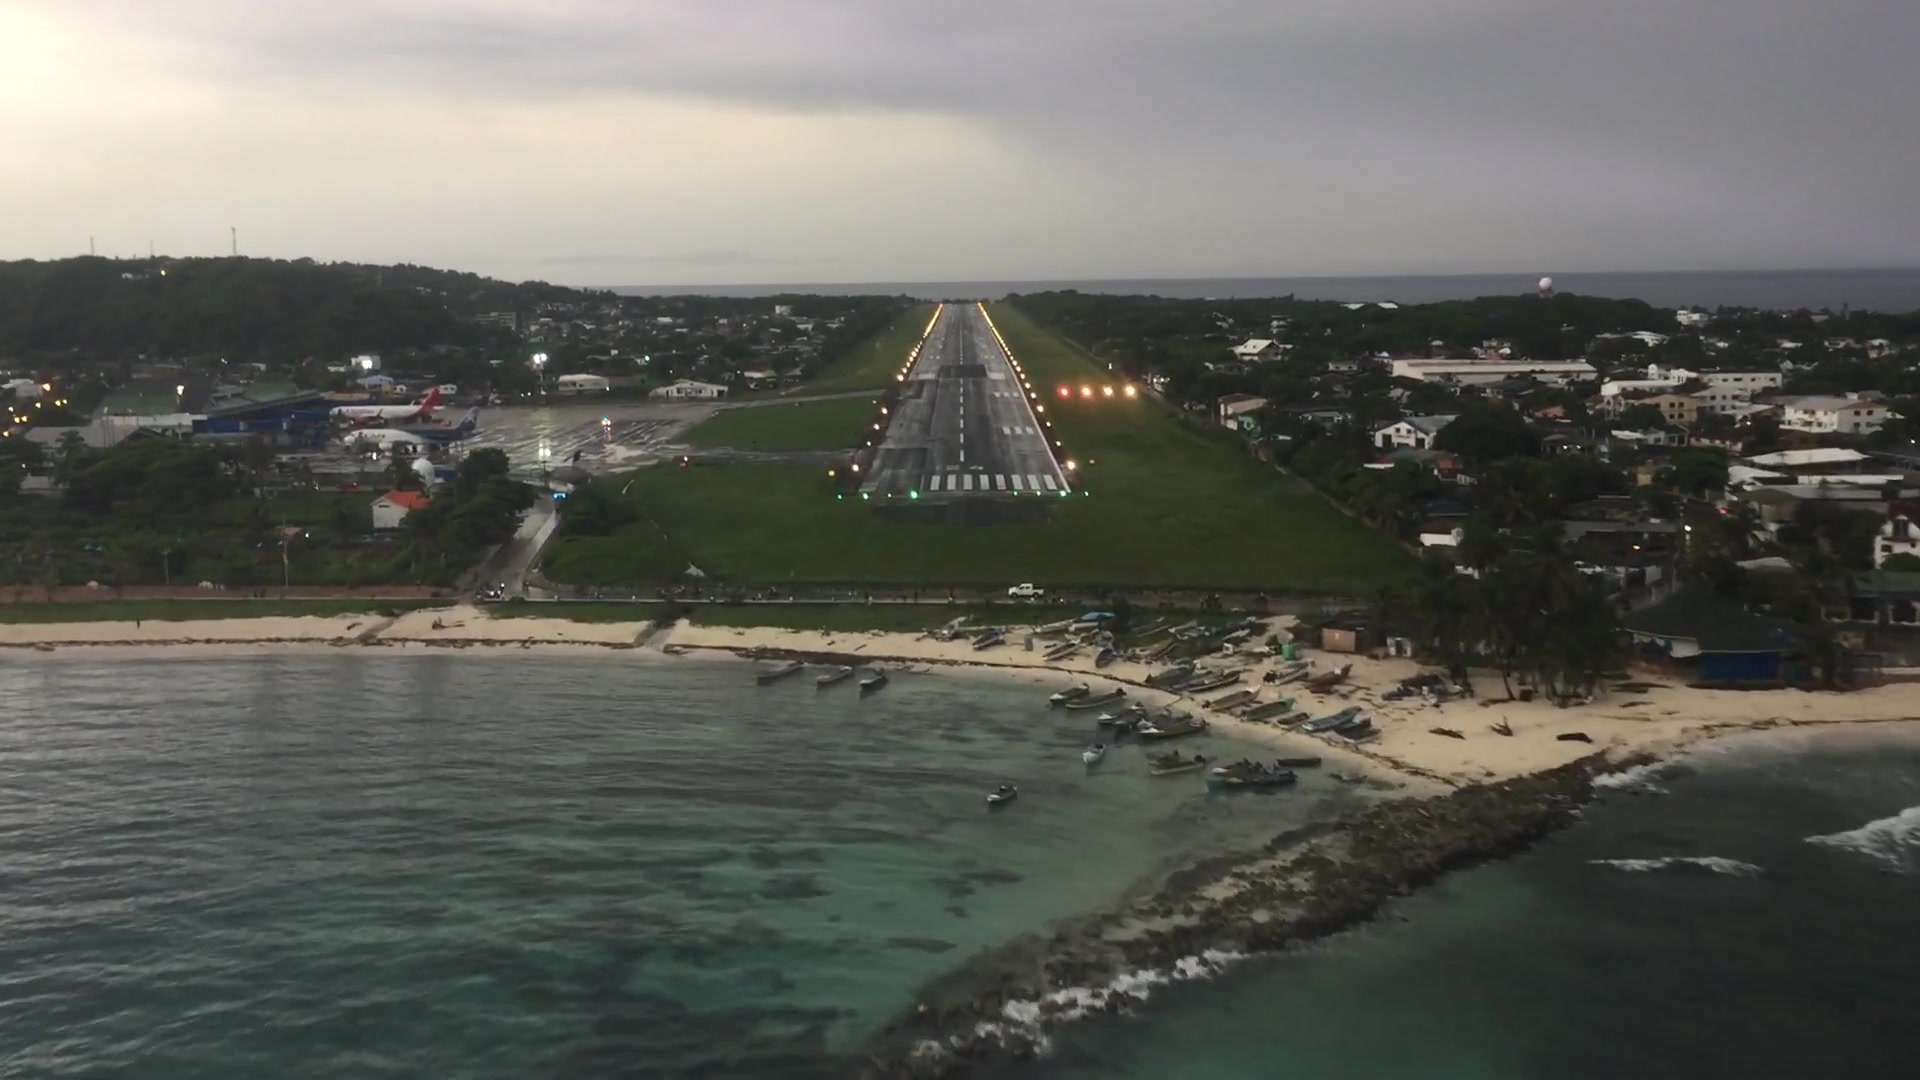entrance: (928, 473, 1058, 491)
runway: (847, 302, 1073, 501)
